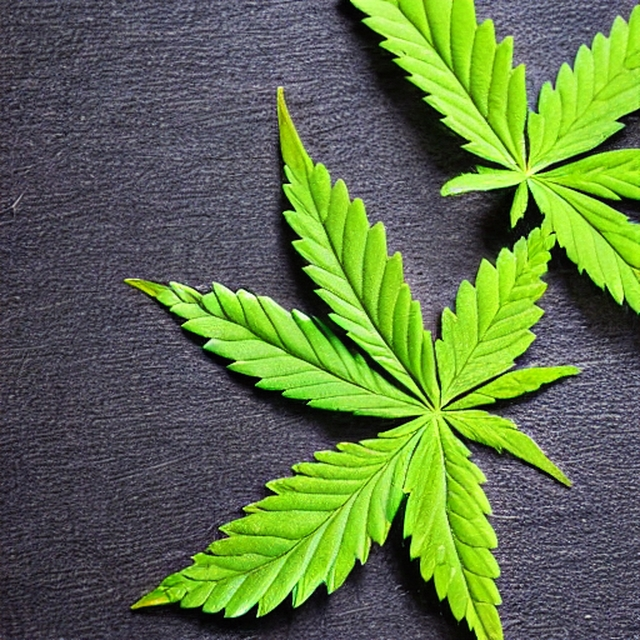Marijuana Leaf: (122, 0, 639, 640), (122, 84, 583, 640), (344, 0, 640, 328)
